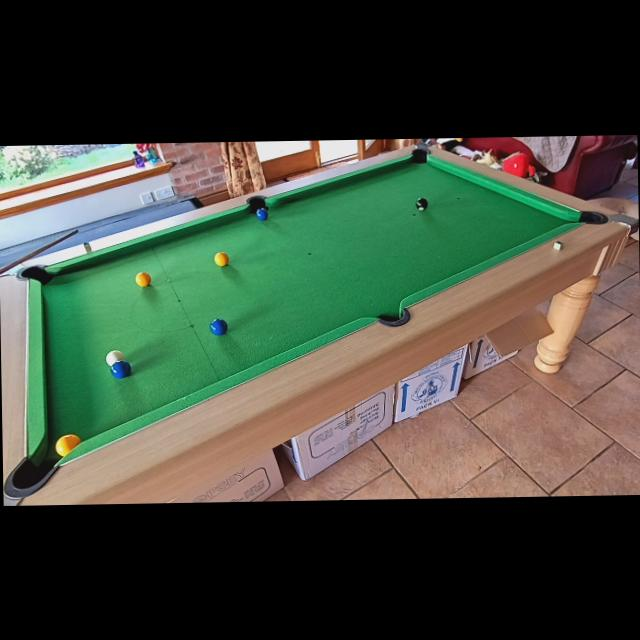Ball: (54, 434, 82, 457), (110, 361, 130, 378), (209, 318, 227, 336), (106, 350, 125, 367), (136, 272, 152, 286), (214, 252, 228, 266), (416, 197, 428, 211), (255, 208, 268, 220)
